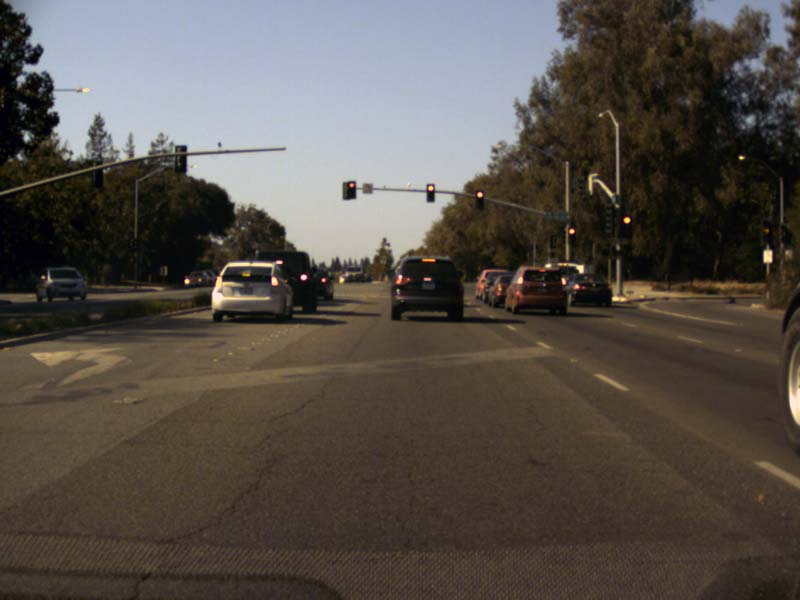Red: (619, 213, 633, 238), (342, 180, 355, 199), (425, 183, 436, 202), (475, 190, 483, 208), (567, 224, 575, 242)
Yellow: (762, 222, 770, 241), (780, 226, 789, 242)
